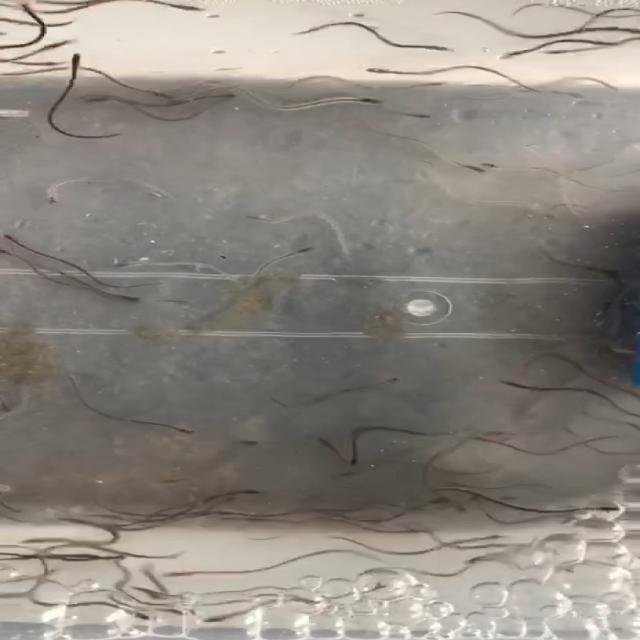active_glass_eel: (216, 480, 268, 500), (189, 568, 240, 587), (28, 186, 68, 210), (88, 88, 126, 110), (465, 158, 514, 175), (176, 422, 208, 446), (200, 610, 238, 630), (120, 603, 162, 621), (139, 183, 169, 208), (169, 1, 213, 18), (394, 103, 429, 124), (209, 508, 280, 518), (496, 378, 540, 394), (443, 532, 493, 546), (564, 501, 610, 516), (402, 38, 450, 52), (83, 548, 119, 566), (370, 376, 407, 392), (166, 606, 200, 623), (366, 65, 404, 80), (481, 438, 514, 455), (538, 45, 588, 56), (346, 92, 378, 109), (0, 228, 30, 246), (475, 426, 511, 441), (342, 443, 360, 473), (497, 48, 531, 62), (109, 255, 140, 270), (241, 212, 270, 228), (450, 154, 474, 172), (290, 242, 314, 260), (615, 23, 640, 38), (69, 55, 88, 73), (204, 88, 233, 98), (0, 247, 24, 259), (248, 444, 266, 456)
